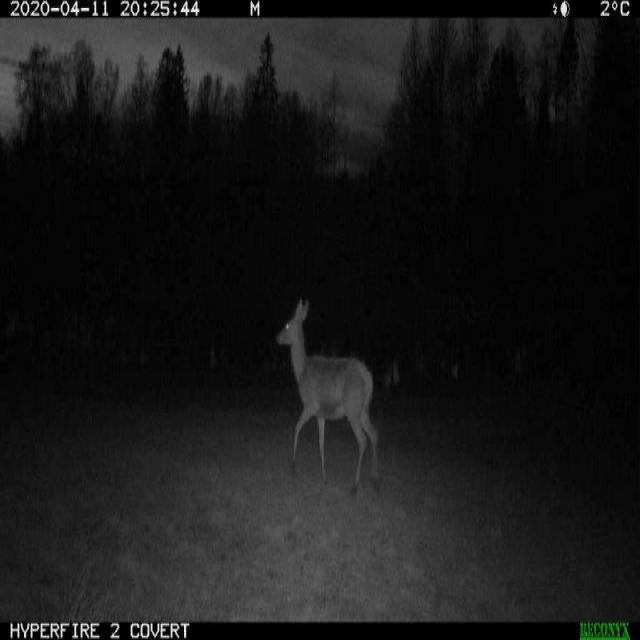deer: (265, 286, 384, 509)
